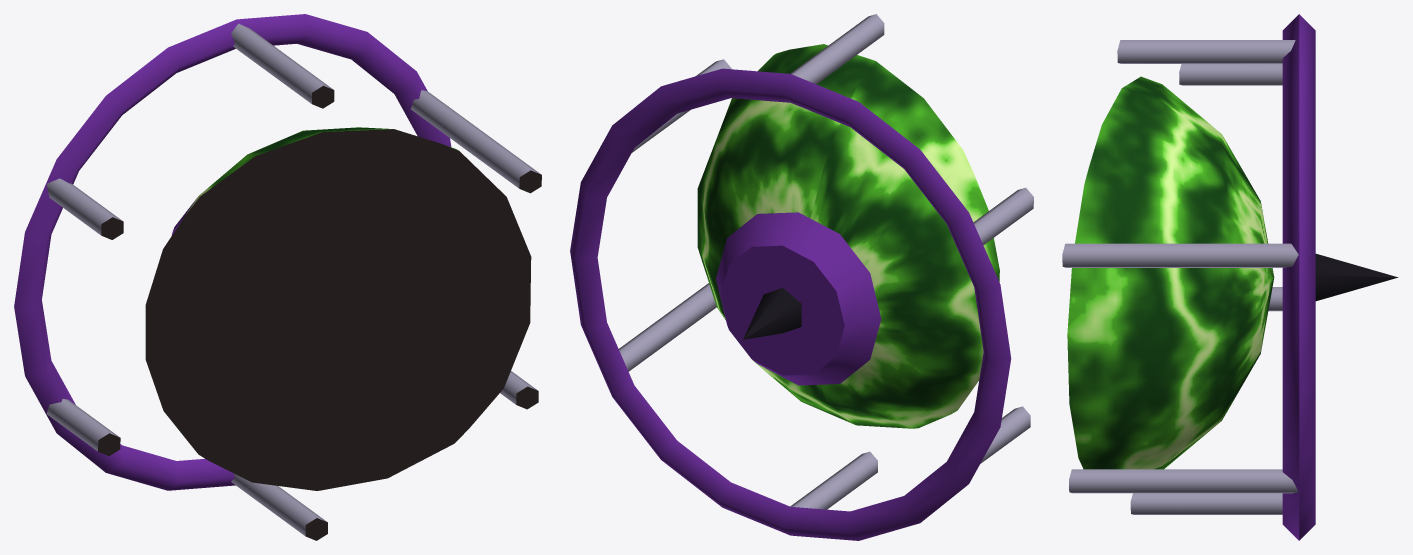
File: dominion_shield_pod_debris1.obj
The picture shows the model from 3 angles, left to right: view 1: azimuth 30°, elevation 25°; view 2: azimuth 150°, elevation 25°; view 3: azimuth 270°, elevation 25°; orthographic projection. The views are drawn at different scales.
Parts seen in each view (by area): view 1: core, cage_ring, cage_bar; view 2: core, cage_ring, cap, cage_bar, spike; view 3: core, cage_bar, cage_ring, spike.
Part boxes in pixels (x1,y1,x2,y2): core: (145,127,531,490); cage_ring: (14,14,451,490); cage_bar: (46,23,541,540); core: (697,44,999,428); cage_ring: (570,68,1011,540); cap: (716,212,881,385); cage_bar: (619,14,1033,509); spike: (743,287,801,339); core: (1067,76,1274,469); cage_bar: (1062,40,1298,514); cage_ring: (1282,14,1315,540); spike: (1315,253,1398,301).
Bounding box in the file's own units: 6.4 × 6.4 × 4.06.
Materials: 5 (1 with a texture image).
